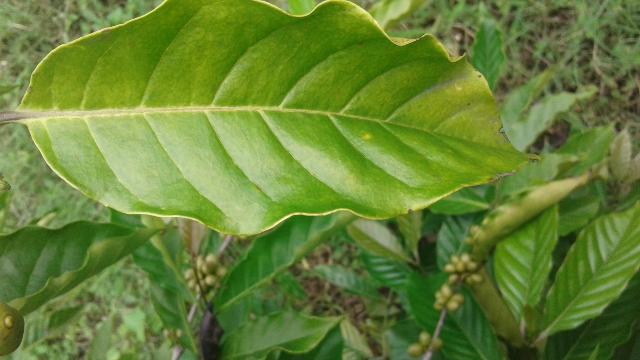rust_level_1: (14, 0, 548, 238)
